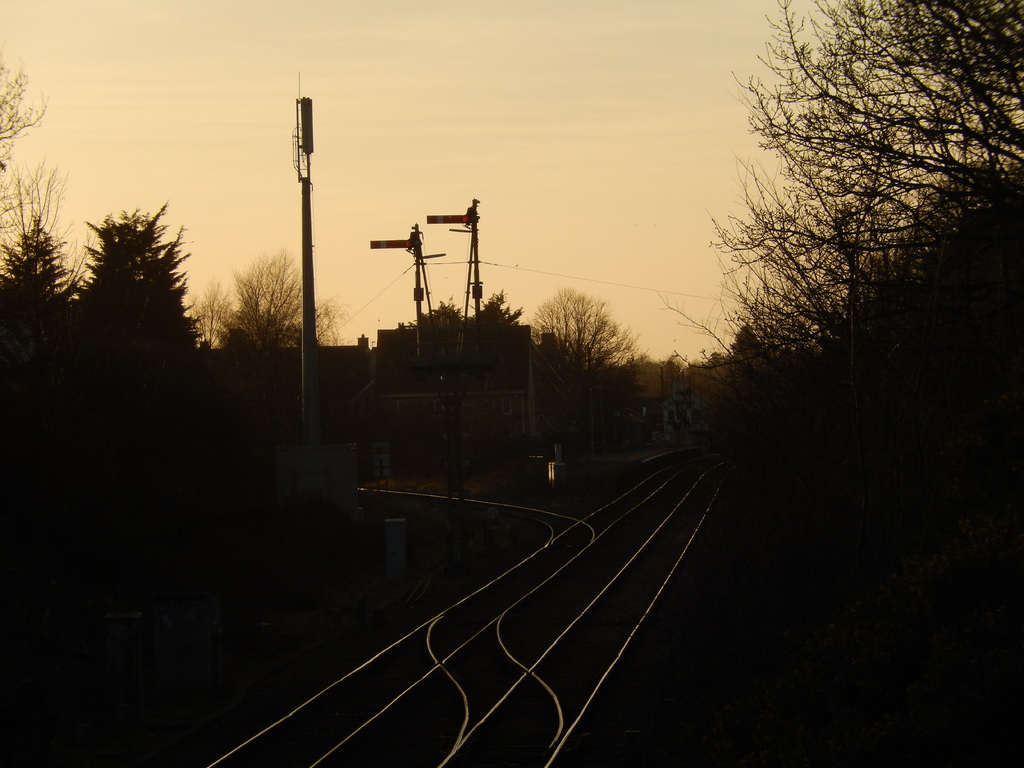Tree: (643, 0, 1023, 669), (0, 246, 344, 452), (520, 266, 648, 432), (0, 53, 72, 276)
